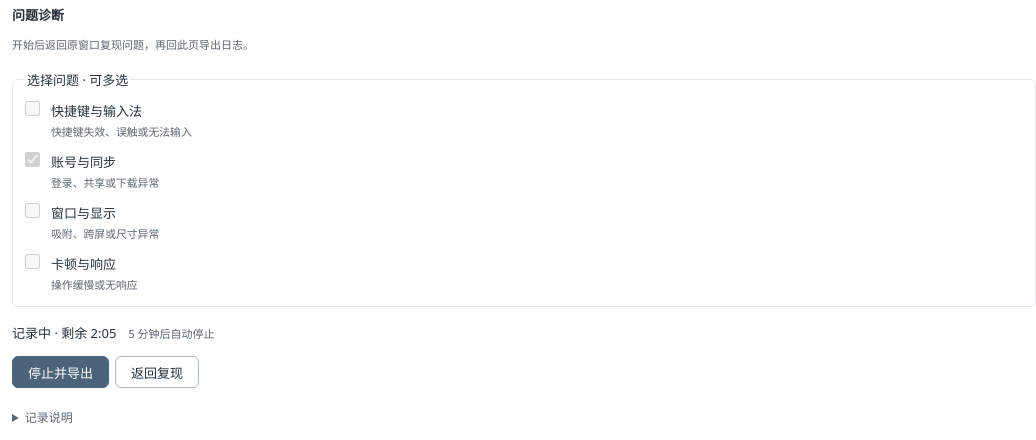
重新进入显示剩余时间，停止并导出后取消文件选择仍保留记录
Expected: the text "记录中 · 剩余 2:05" is shown, top-left (12, 324), bottom-right (116, 342)
Expected: the checkbox labelled "账号与同步 登录、共享或下载异常" is checked, top-left (25, 152), bottom-right (40, 167)
Click the button "停止并导出" at (60, 372), box top-left (12, 356), bottom-right (109, 388)
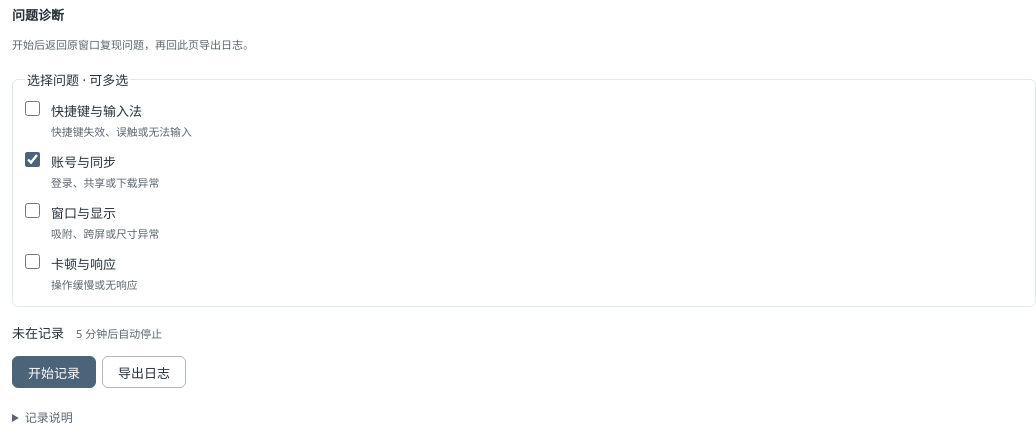
Expected: the button "导出日志" is enabled, top-left (102, 356), bottom-right (186, 388)
Expected: the text "未在记录" is shown, top-left (12, 324), bottom-right (64, 342)
